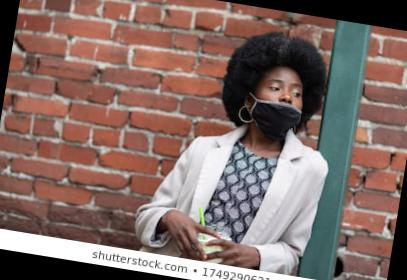mask_weared_incorrect: (257, 78, 305, 131)
